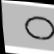no answer: (22, 13, 54, 43)
